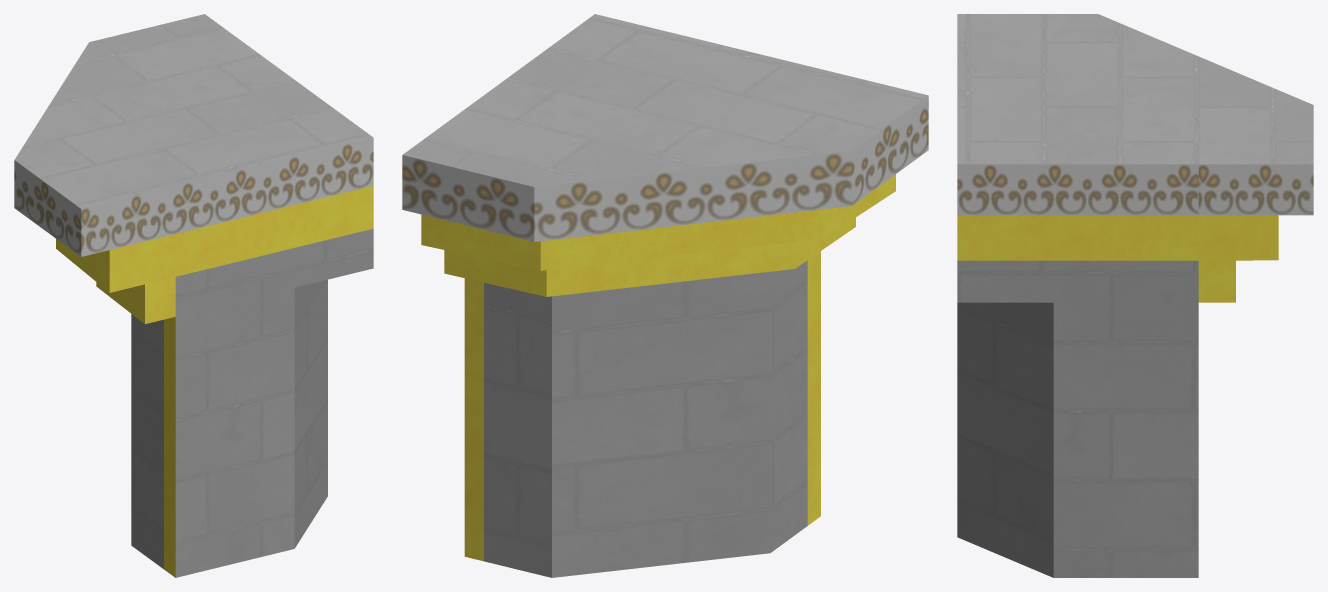
File: SM_corner.glb
3 renders of one model, left to right at view 1: azimuth 30°, elevation 25°; view 2: azimuth 150°, elevation 25°; view 3: azimuth 270°, elevation 25°, orthographic. The views are drawn at different scales.
Visible parts, largest first — view 1: SM_corner; view 2: SM_corner; view 3: SM_corner.
Part boxes in pixels (x1,y1,x2,y2): SM_corner: (14,14,373,577); SM_corner: (402,14,928,577); SM_corner: (957,14,1313,577).
Size of the model in its own units: 2.34 by 3 by 2.34.
Materials: 3 (3 with a texture image).
